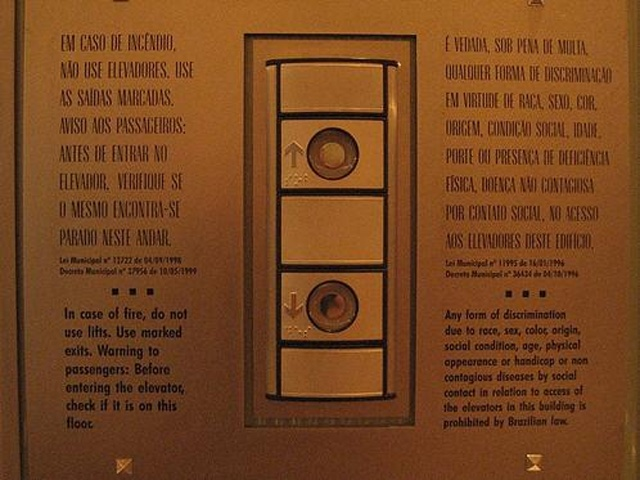close: (275, 264, 390, 346)
empty: (274, 190, 389, 272)
up: (274, 113, 389, 195)
